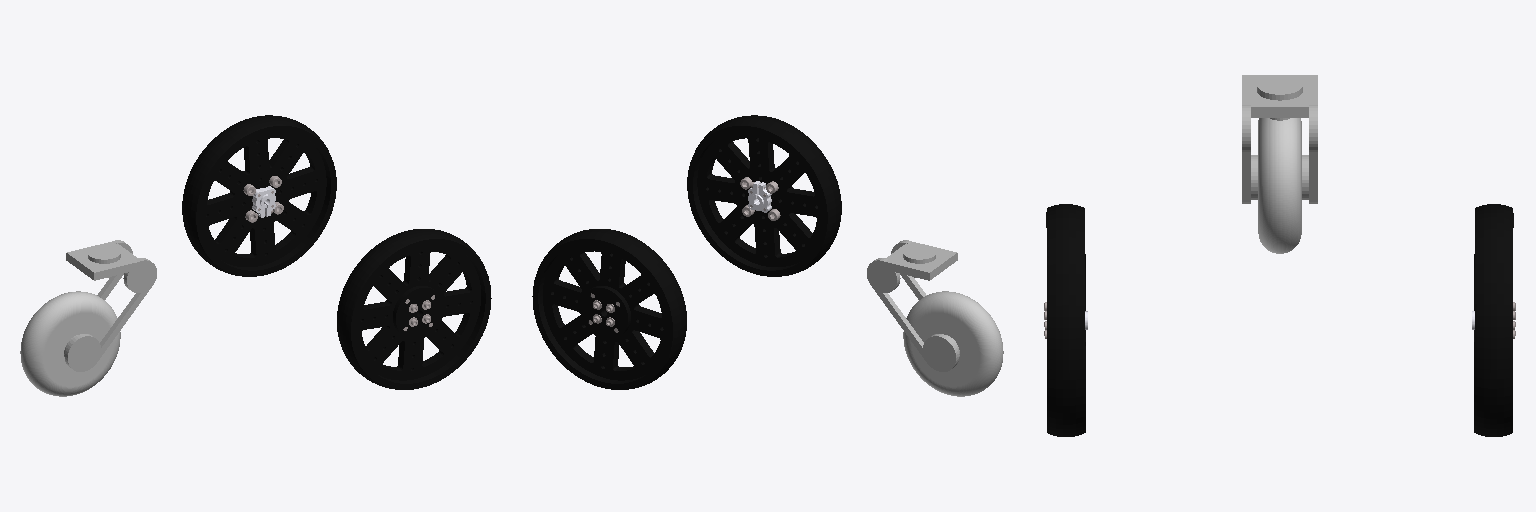
URDF robot description (raspicat):
<?xml version="1.0"?>
<robot name="raspicat">

  <link name="base_footprint"/>

  <!-- Base_body -->
  <joint name="base_joint" type="fixed">
    <origin xyz="0 0 0.0762" rpy="0 0 0"/>
    <axis xyz="0 0 0"/>
    <parent link="base_footprint"/>
    <child link="base_link"/>
  </joint>

  <link name="base_link">
    <visual>
      <origin xyz="0 0 0" rpy="0 0 0"/>
      <geometry>
        <mesh filename="package://raspicat_description/meshes/dae/body/raspicat_base.dae"/>
      </geometry>
    </visual>
  </link>

  <!-- Wheel -->
  <joint name="right_wheel_joint" type="continuous">
    <origin xyz="0 -0.13959 0" rpy="-1.57 0 0"/>
    <axis xyz="0 0 1"/>
    <parent link="base_link"/>
    <child link="right_wheel_link"/>
  </joint>
  
  <link name="right_wheel_link">
    <visual>
      <origin xyz="0 0 0" rpy="0 0 0"/>
      <geometry>
        <mesh filename="package://raspicat_description/meshes/dae/wheel/raspicat_wheel.dae"/>
      </geometry>
    </visual>
  </link>

  <joint name="left_wheel_joint" type="continuous">
    <origin xyz="0 0.13959 0" rpy="1.57 0 0"/>
    <axis xyz="0 0 -1"/>
    <parent link="base_link"/>
    <child link="left_wheel_link"/>
  </joint>
  
  <link name="left_wheel_link">
    <visual>
      <origin xyz="0 0 0" rpy="0 0 0"/>
      <geometry>
        <mesh filename="package://raspicat_description/meshes/dae/wheel/raspicat_wheel.dae"/>
      </geometry>
    </visual>
  </link>

  <!-- Caster -->
  <joint name="caster_joint" type="continuous">
    <origin xyz="-0.2425 0 0.0567" rpy="0 0 0"/>
    <axis xyz="0 0 1"/>
    <parent link="base_link"/>
    <child link="caster_link"/>
  </joint>
  
  <link name="caster_link">
    <visual>
      <origin xyz="0 0 0" rpy="0 0 0"/>
      <geometry>
        <mesh filename="package://raspicat_description/meshes/dae/caster/raspicat_caster.dae"/>
      </geometry>
    </visual>
  </link>

  <joint name="caster_wheel_joint" type="continuous">
    <origin xyz="-0.035 0 -0.0829" rpy="-1.57 0 0"/>
    <axis xyz="0 0 1"/>
    <parent link="caster_link"/>
    <child link="caster_wheel_link"/>
  </joint>
  
  <link name="caster_wheel_link">
    <visual>
      <origin xyz="0 0 0" rpy="0 0 0"/>
      <geometry>
        <mesh filename="package://raspicat_description/meshes/dae/caster/raspicat_caster_wheel.dae"/>
      </geometry>
    </visual>
  </link>

  <!-- LiDAR sensor -->
  <joint name="lidar_joint" type="fixed">
    <origin xyz="0.144 0 -0.0262" rpy="0 0 0"/>
    <axis xyz="0 0 0"/>
    <parent link="base_link"/>
    <child link="urg_mount_link"/>
  </joint>

  <link name="urg_mount_link"/>

  <joint name="lidar_frame_joint" type="fixed">
    <origin xyz="0 0 0.055" rpy="0 0 0"/>
    <axis xyz="0 0 0"/>
    <parent link="urg_mount_link"/>
    <child link="lidar_link"/>
  </joint>

  <link name="lidar_link"/>

  <!-- Ultrasonic sensor -->
  <joint name="right_side_usensor_joint" type="fixed">
    <origin xyz="0.1055 -0.1165 -0.00795" rpy="0 0 -0.837758"/>
    <axis xyz="0 0 0"/>
    <parent link="base_link"/>
    <child link="right_side_usensor_link"/>
  </joint>
  
  <link name="right_side_usensor_link"/>

  <joint name="right_front_usensor_joint" type="fixed">
    <origin xyz="0.1435 -0.064 -0.00795" rpy="0 0 -0.418879"/>
    <axis xyz="0 0 0"/>
    <parent link="base_link"/>
    <child link="right_front_usensor_link"/>
  </joint>
  
  <link name="right_front_usensor_link"/>

  <joint name="left_front_usensor_joint" type="fixed">
    <origin xyz="0.1435 0.064 -0.00795" rpy="0 0 0.418879"/>
    <axis xyz="0 0 0"/>
    <parent link="base_link"/>
    <child link="left_front_usensor_link"/>
  </joint>
  
  <link name="left_front_usensor_link"/>

  <joint name="left_side_usensor_joint" type="fixed">
    <origin xyz="0.1055 0.1165 -0.00795" rpy="0 0 0.837758"/>
    <axis xyz="0 0 0"/>
    <parent link="base_link"/>
    <child link="left_side_usensor_link"/>
  </joint>
  
  <link name="left_side_usensor_link"/>

  <!-- Camera link -->
  <joint name="camera_joint" type="fixed">
    <origin xyz="0.0732 0 0.1188" rpy="1.57 0 1.57"/>
    <axis xyz="0 0 0"/>
    <parent link="base_link"/>
    <child link="camera_link"/>
  </joint>

  <link name="camera_link"/>

  <joint name="camera_color_joint" type="fixed">
    <origin xyz="0.032 0 0" rpy="0 -1.57 -1.57"/>
    <parent link="camera_link"/>
    <child link="camera_color_frame"/>
  </joint>

  <link name="camera_color_frame"/>

  <joint name="camera_color_optical_joint" type="fixed">
    <origin xyz="0 0 0" rpy="0 0 0"/>
    <parent link="camera_color_frame"/>
    <child link="camera_color_optical_frame"/>
  </joint>
  
  <link name="camera_color_optical_frame"/>

  <joint name="camera_depth_joint" type="fixed">
    <origin xyz="-0.012 0 0" rpy="0 -1.57 -1.57"/>
    <parent link="camera_link"/>
    <child link="camera_depth_frame"/>
  </joint>

  <link name="camera_depth_frame"/>

  <joint name="camera_depth_optical_joint" type="fixed">
    <origin xyz="0 0 0" rpy="-1.57 0 -1.57"/>
    <parent link="camera_depth_frame"/>
    <child link="camera_depth_optical_frame"/>
  </joint>
  
  <link name="camera_depth_optical_frame"/>

  <!-- Imu link -->
  <joint name="imu_joint" type="fixed">
    <origin xyz="0 0 0.14" rpy="3.14 0 0"/>
    <parent link="base_link"/>
    <child link="imu_link"/>
  </joint>

  <link name="imu_link"/>
</robot>

--- Facts derived from the render (not from the file) ---
Views: 3 orthographic renders of the robot side by side, from view 1: azimuth 30°, elevation 25°; view 2: azimuth 150°, elevation 25°; view 3: azimuth 270°, elevation 25°.
Model raspicat with 18 links and 17 joints (4 continuous, 13 fixed), rooted at base_footprint, posed every joint at zero.
Visible links, largest first — view 1: left_wheel_link, right_wheel_link, caster_wheel_link, caster_link; view 2: right_wheel_link, left_wheel_link, caster_wheel_link, caster_link; view 3: right_wheel_link, left_wheel_link, caster_wheel_link, caster_link.
Link boxes in pixels (left/top/right/bottom): left_wheel_link: left=182, top=115, right=336, bottom=276; right_wheel_link: left=337, top=229, right=491, bottom=389; caster_wheel_link: left=20, top=291, right=120, bottom=396; caster_link: left=64, top=240, right=156, bottom=371; right_wheel_link: left=687, top=115, right=841, bottom=276; left_wheel_link: left=532, top=229, right=686, bottom=389; caster_wheel_link: left=903, top=291, right=1003, bottom=396; caster_link: left=867, top=240, right=959, bottom=371; right_wheel_link: left=1044, top=204, right=1087, bottom=436; left_wheel_link: left=1472, top=204, right=1515, bottom=436; caster_wheel_link: left=1258, top=118, right=1301, bottom=253; caster_link: left=1242, top=75, right=1317, bottom=203.
Bounding box of the posed robot: 0.4036 × 0.3073 × 0.1522 m (x, y, z).
4 mesh visuals loaded from 4 distinct referenced files (3 Collada DAE); not drawn: 1 (reference not matched to a file when rendering).